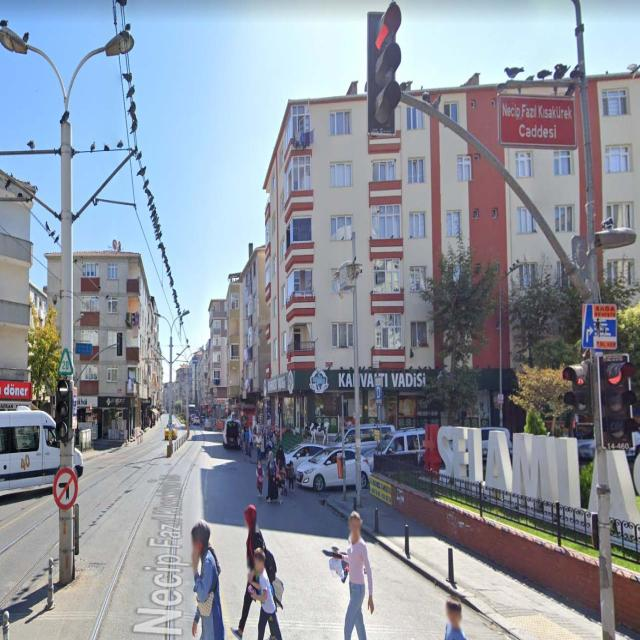durak: (376, 386, 382, 399)
kirmizi: (368, 9, 397, 134), (600, 355, 634, 451)
soladonulmez: (54, 467, 77, 509)
